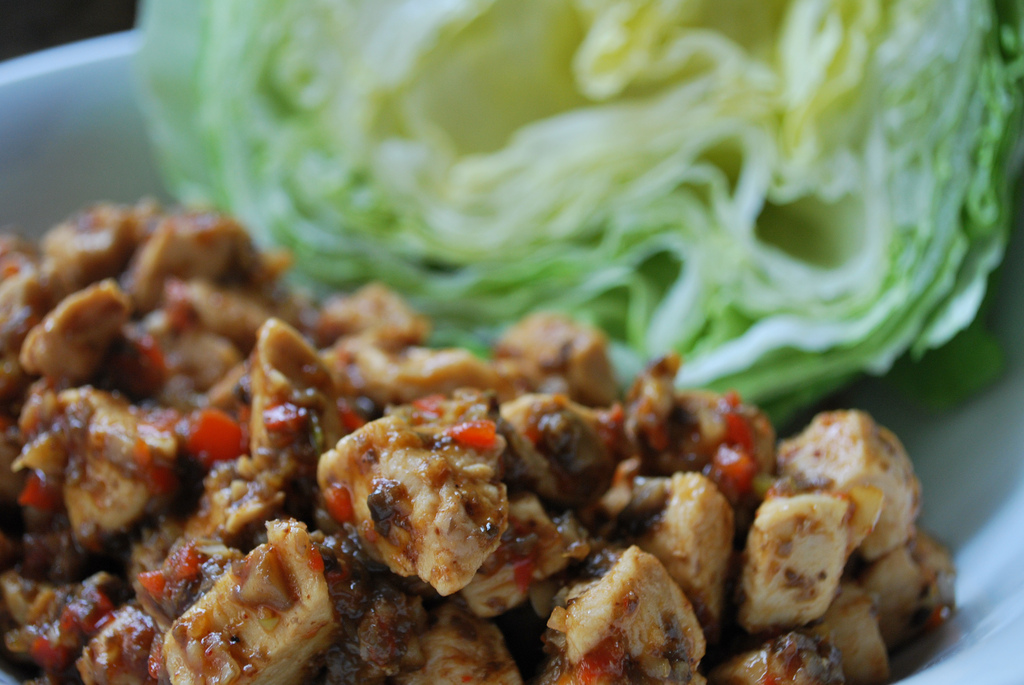chopped lettuce: (234, 13, 965, 339)
